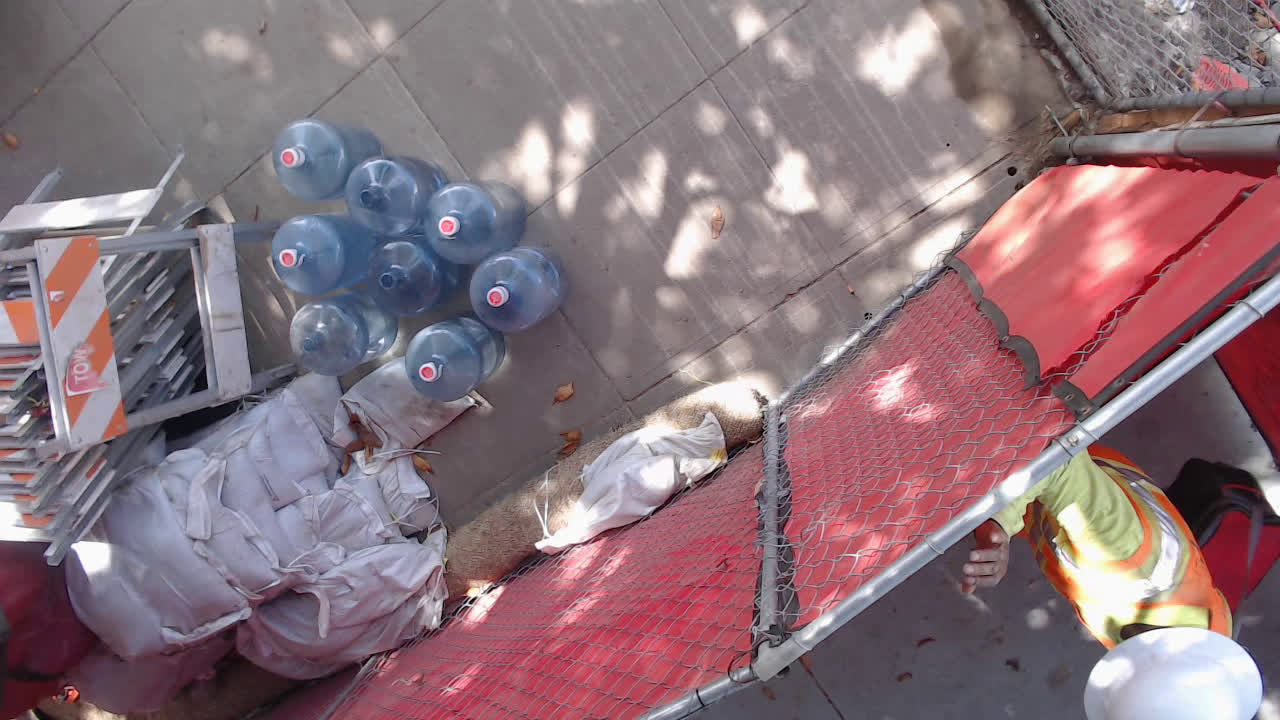hardhat: (1082, 623, 1263, 720)
safetyvest: (969, 447, 1236, 650)
